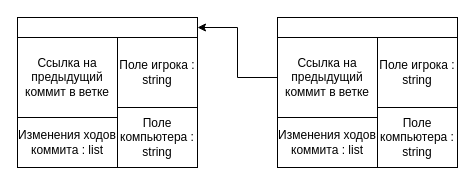
The diagram is 475 pixels wide and 185 high, and some of its shapes have lost their labels. Here are the shapes that lost their labels. From the top down, the centre of each, then its label:
the point at 107,27: 1a
the point at 367,27: 2a
